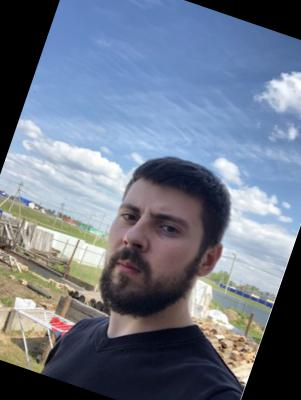without_mask: (85, 187, 208, 332)
